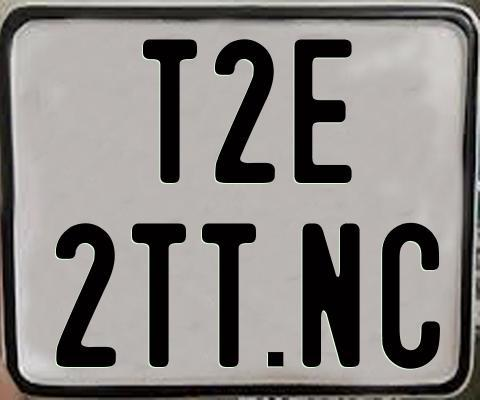2: (54, 220, 120, 366), (213, 39, 277, 184)
C: (381, 222, 445, 371)
E: (293, 37, 351, 185)
N: (302, 220, 365, 368)
T: (129, 221, 188, 371), (199, 220, 255, 368), (140, 37, 195, 185)
